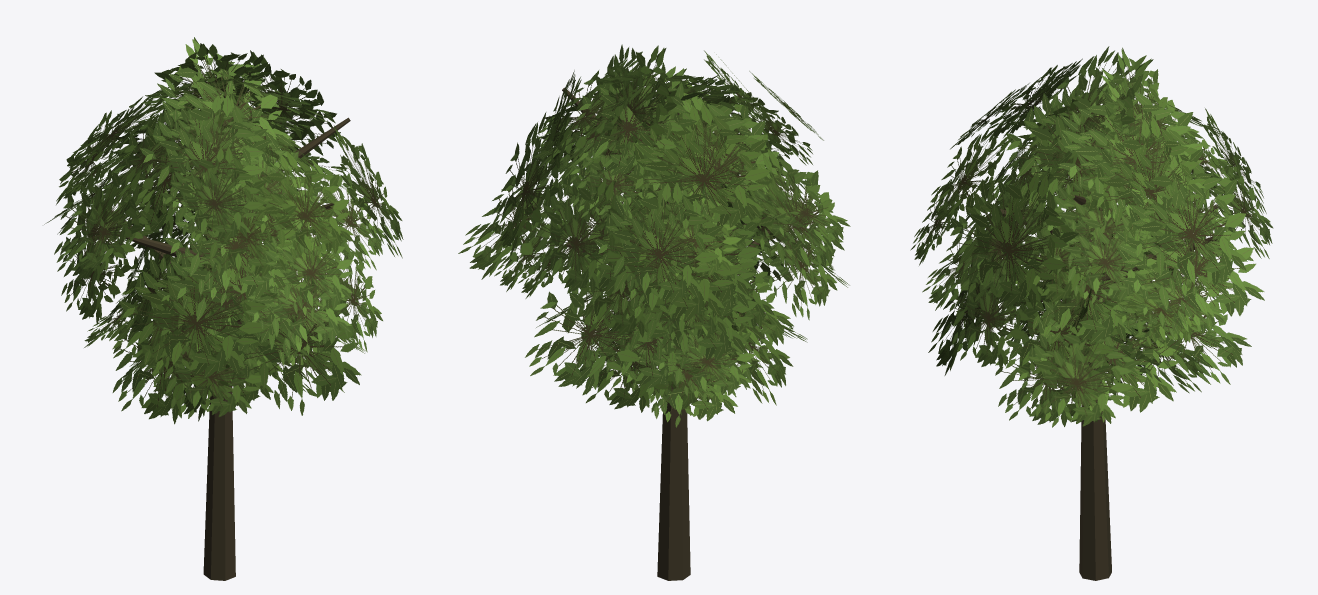
Rendered from TRB8-FOREST-CHUNK-7-5.glb.
3 views of the same model, side by side, from view 1: azimuth 30°, elevation 25°; view 2: azimuth 150°, elevation 25°; view 3: azimuth 270°, elevation 25° (orthographic). The views are drawn at different scales.
Parts seen in each view (by area): view 1: TRB8-FOREST-CHUNK-7-5; view 2: TRB8-FOREST-CHUNK-7-5; view 3: TRB8-FOREST-CHUNK-7-5.
Part boxes in pixels (x1=…): TRB8-FOREST-CHUNK-7-5: x1=44, y1=37, x2=403, y2=580; TRB8-FOREST-CHUNK-7-5: x1=458, y1=44, x2=850, y2=580; TRB8-FOREST-CHUNK-7-5: x1=910, y1=46, x2=1273, y2=580.
Bounding box in the file's own units: 2.91 × 4.14 × 2.85.
Materials: 2 (1 with a texture image).
